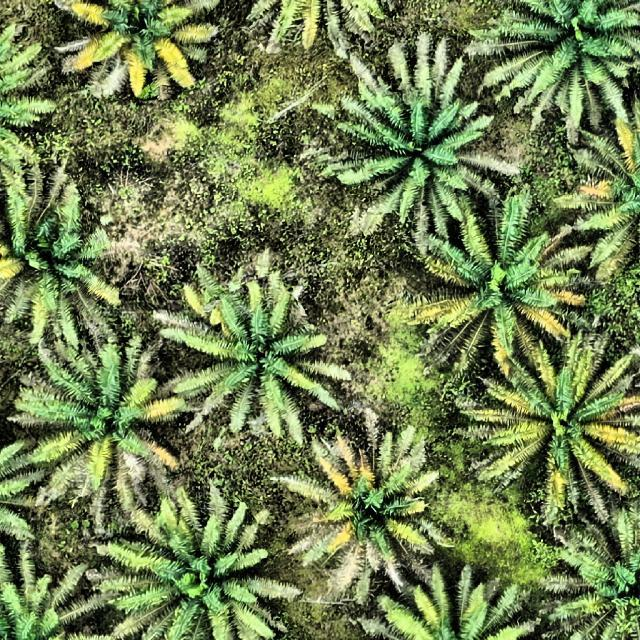Kelapa_Sawit: (469, 347, 640, 525), (417, 194, 588, 361), (18, 331, 182, 502), (342, 62, 506, 230), (174, 269, 338, 422), (288, 450, 453, 596), (108, 510, 283, 640), (494, 0, 640, 128), (0, 177, 114, 340), (54, 0, 226, 94), (353, 559, 542, 640), (558, 112, 640, 283), (559, 511, 640, 640), (0, 544, 103, 640), (0, 23, 55, 174), (244, 0, 402, 52)
